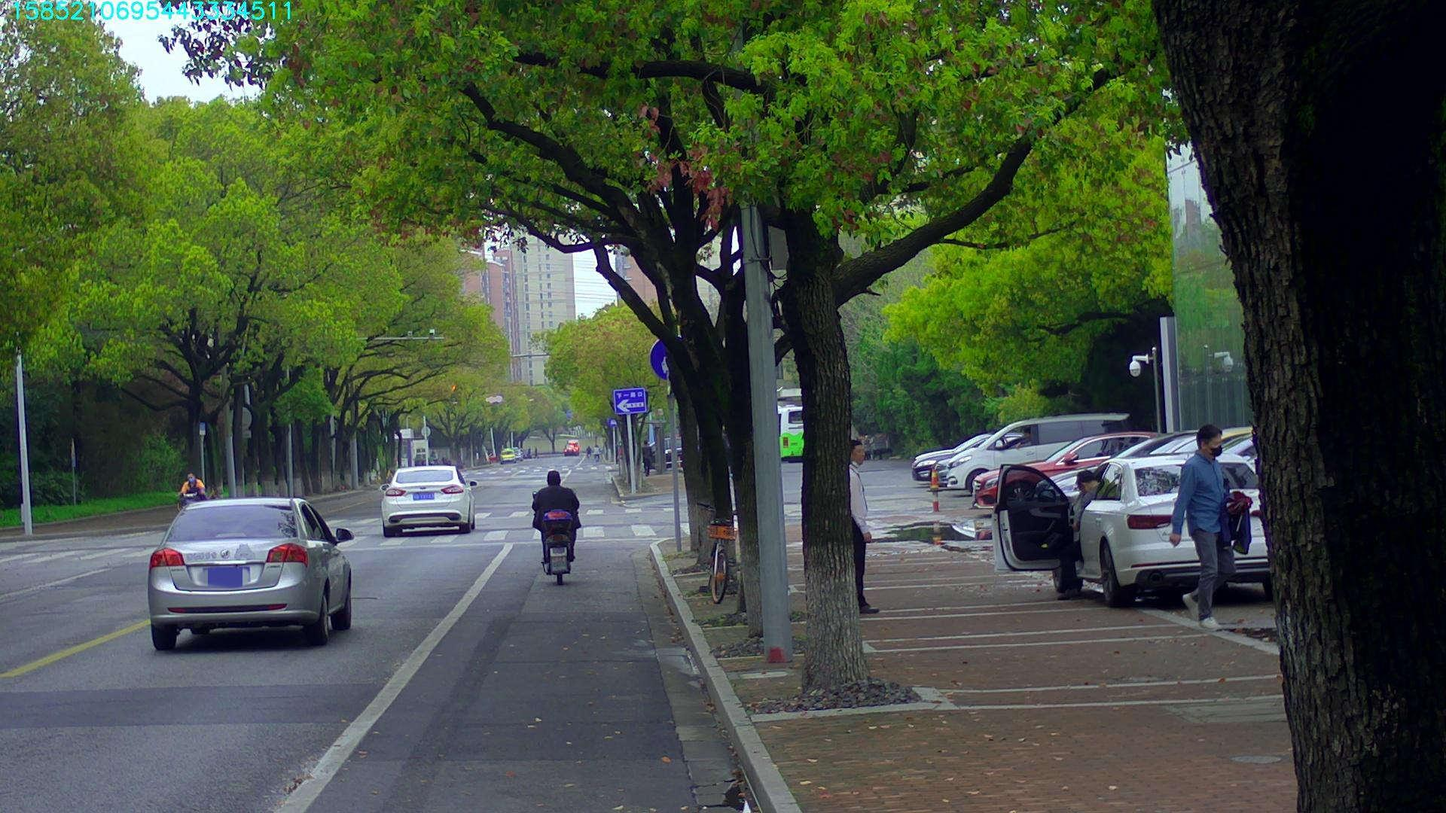red: (448, 382, 459, 401)
